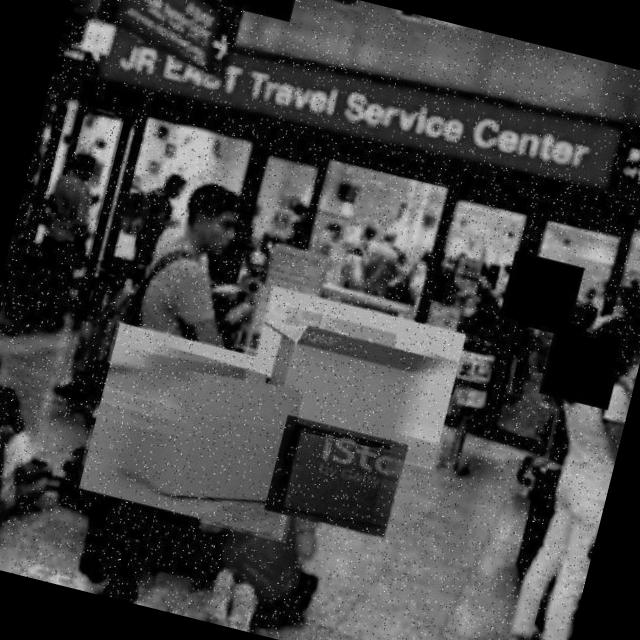box: (75, 320, 328, 543), (236, 284, 469, 471), (264, 414, 409, 540)
